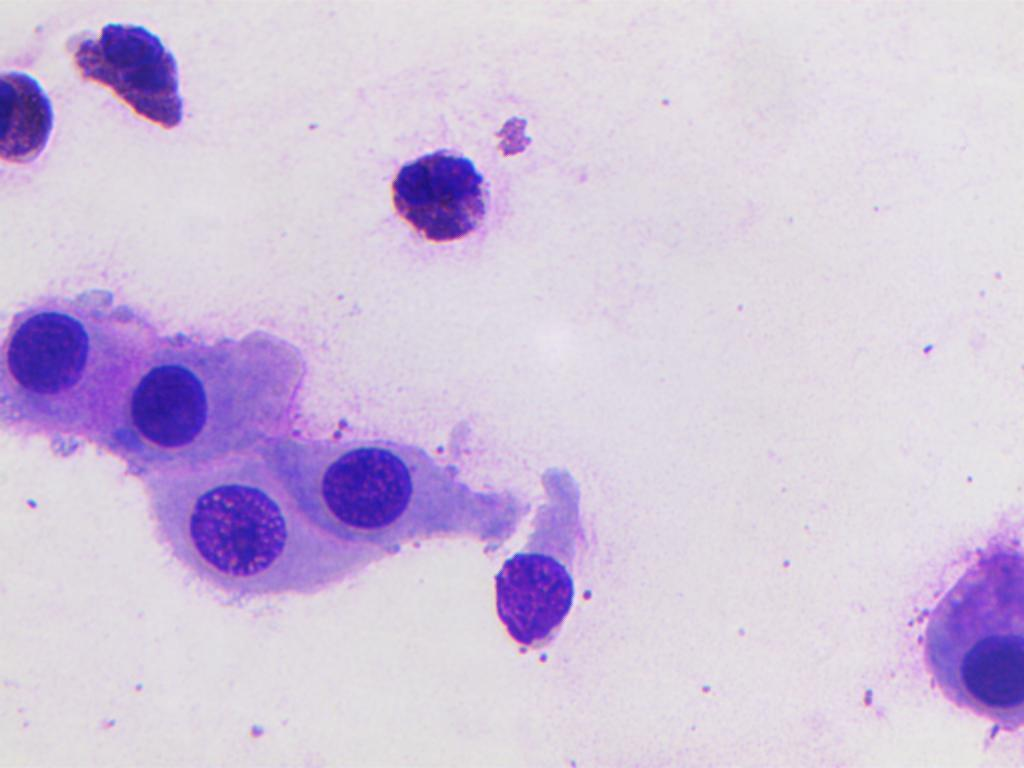eosinophil: (53, 14, 198, 132), (386, 129, 486, 258), (1, 62, 57, 166)
epithelial: (115, 329, 298, 446), (154, 459, 310, 588), (310, 445, 476, 560), (477, 538, 603, 685), (933, 596, 1023, 741), (4, 307, 107, 412)
